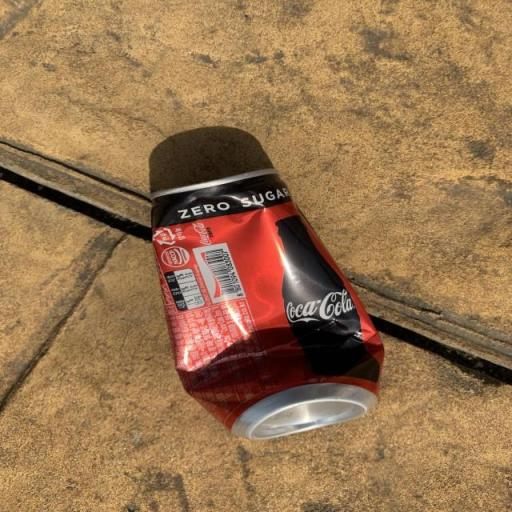metal: (132, 159, 398, 454)
